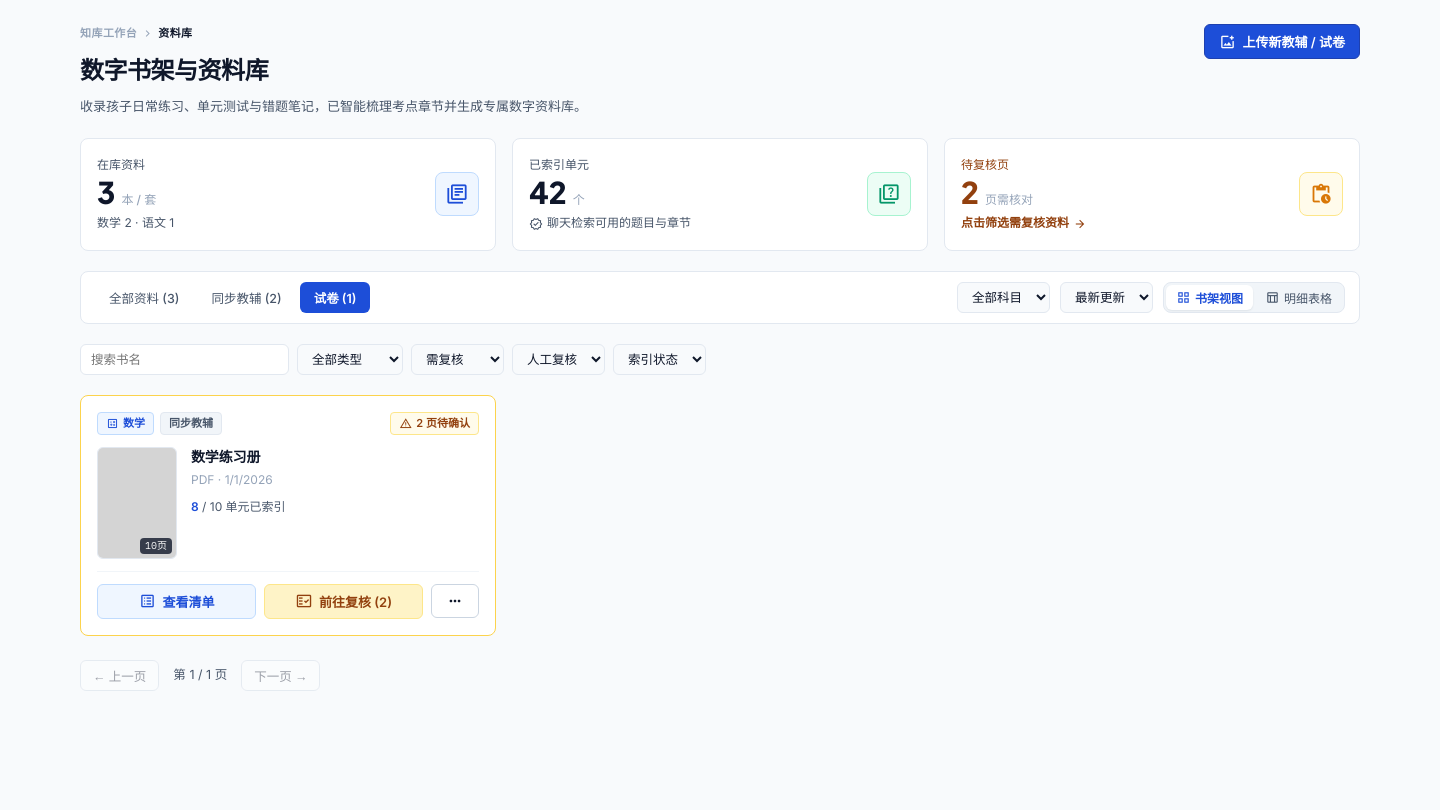
Test: LibraryView › 上传按钮打开资料上传弹窗
The width and height of the screenshot is (1440, 810).
Click the button "上传新教辅 / 试卷" at (1282, 42), box [1204,24,1360,59]
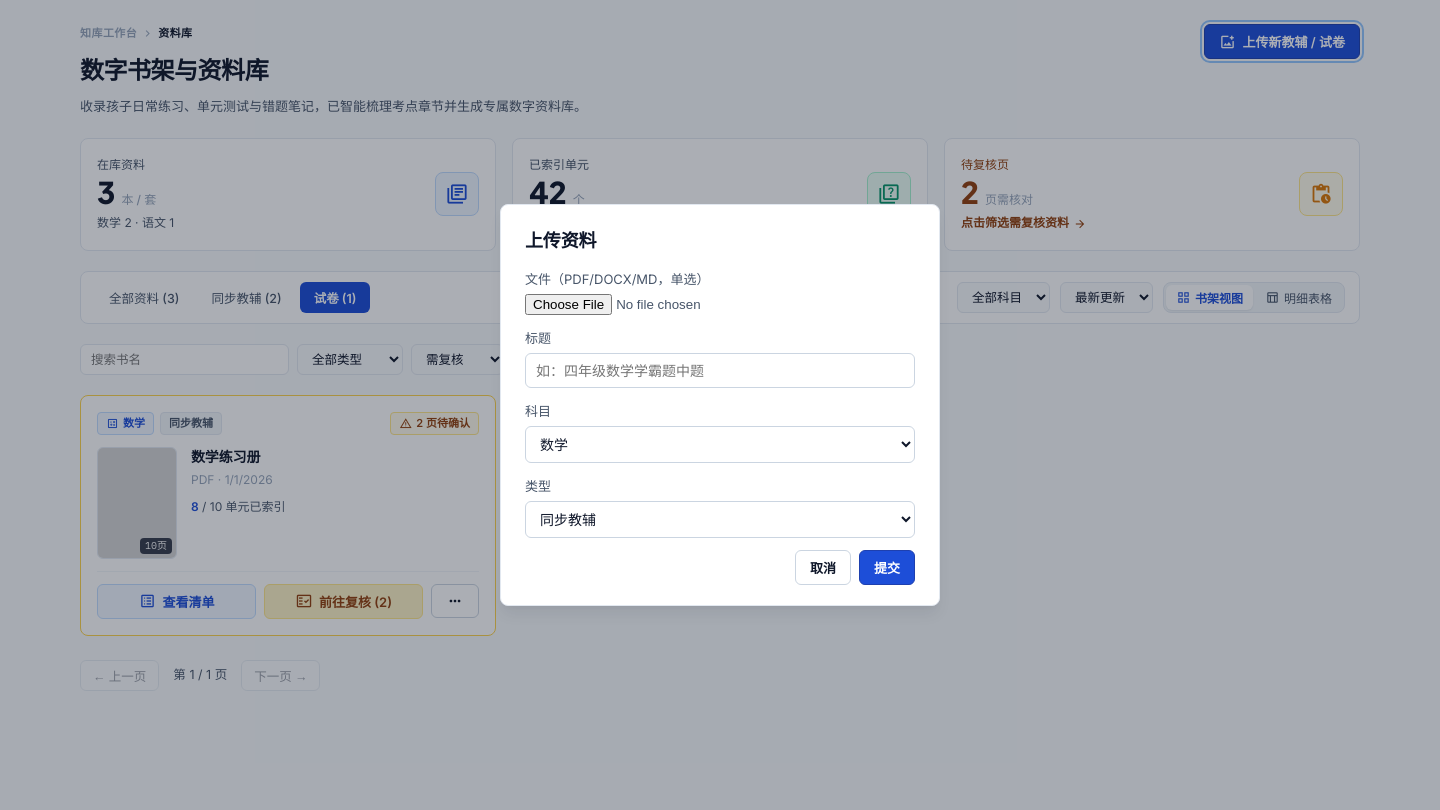
Expected: the dialog "上传资料" is shown, [500,204,940,606]
Expected: the dropdown labelled "类型" shows "同步教辅", [525,501,915,538]
